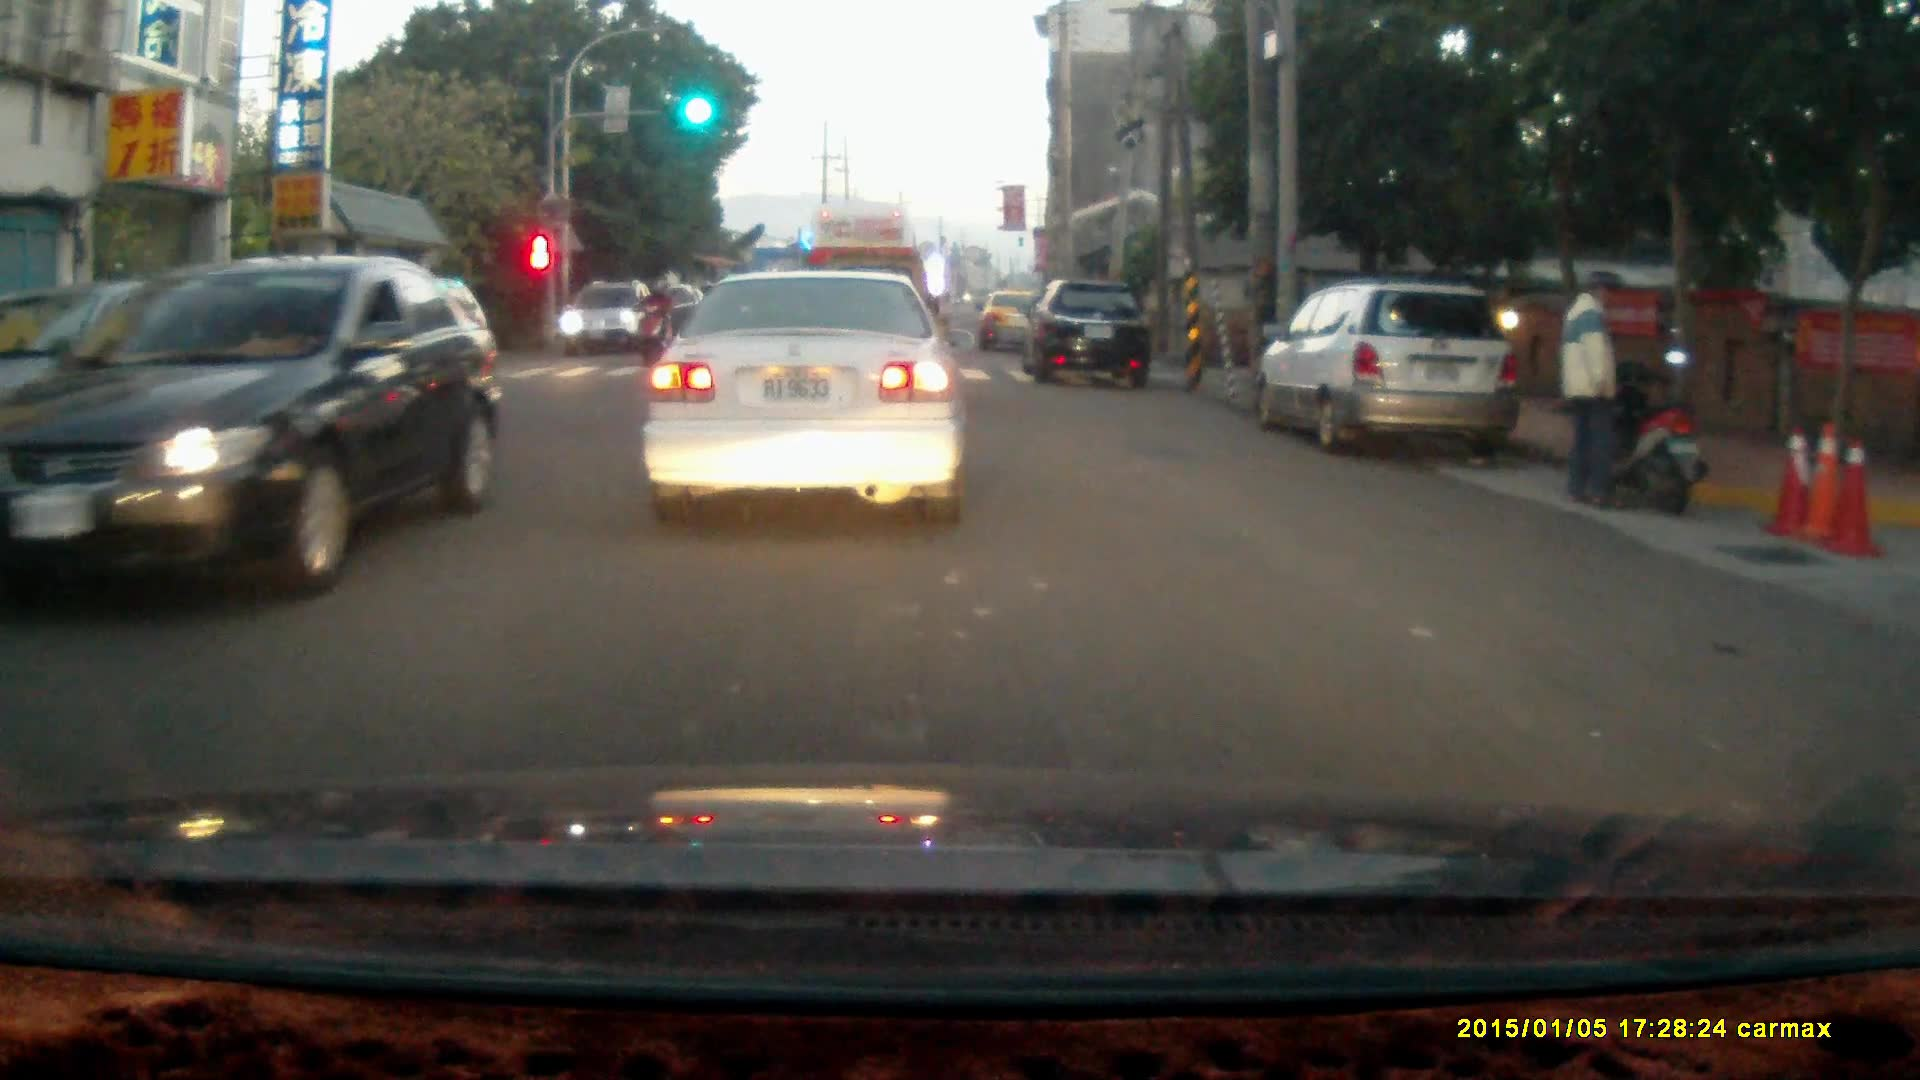pedestrian: (1553, 271, 1628, 516)
rider: (632, 276, 673, 366)
vehicle: (1, 256, 485, 605), (640, 273, 965, 528), (1269, 287, 1523, 466), (807, 204, 929, 370), (1024, 279, 1161, 390), (562, 281, 661, 355), (976, 288, 1070, 359)
